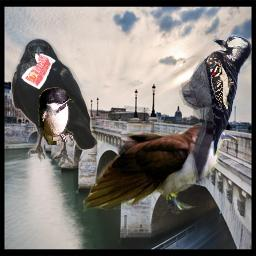Crow: (11, 38, 98, 167)
Cuckoo: (83, 63, 239, 216)
Swallow: (37, 86, 77, 145)
Woodpecker: (179, 28, 252, 188), (211, 59, 234, 109)
